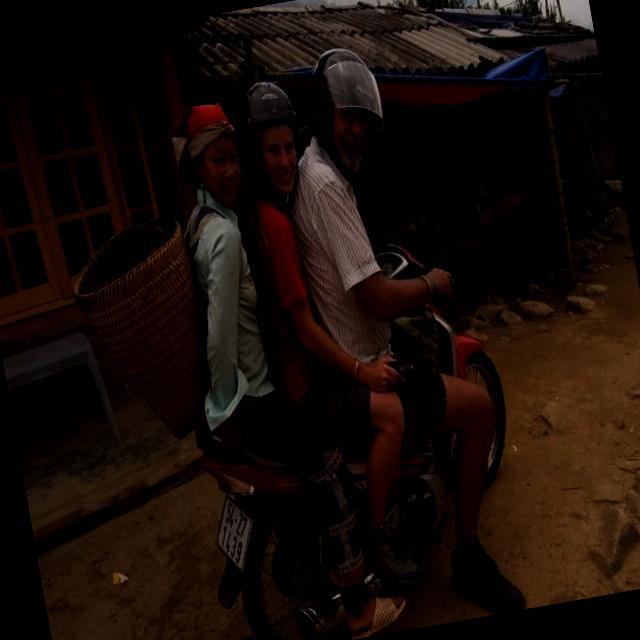motorcycle: (150, 218, 543, 640)
person: (255, 31, 474, 504), (126, 85, 308, 482), (202, 70, 364, 460)
rider_region: (110, 28, 532, 640)
